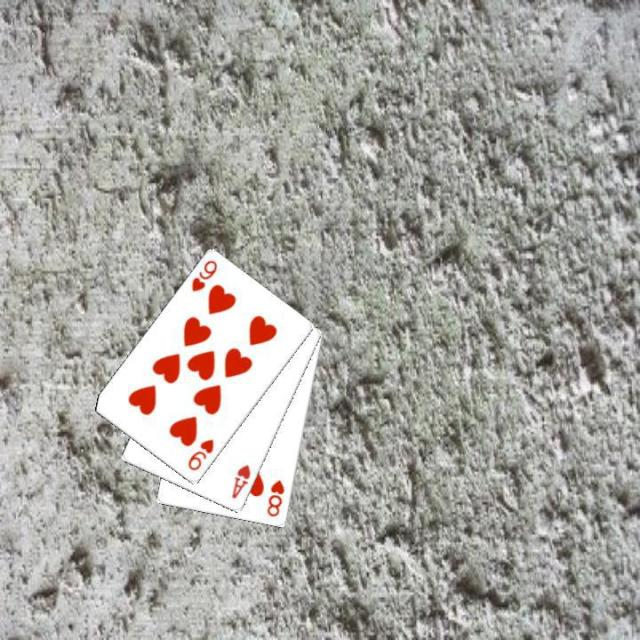8H: (263, 477, 286, 519)
9H: (184, 435, 216, 473), (188, 256, 218, 294)
AH: (228, 461, 252, 502)
